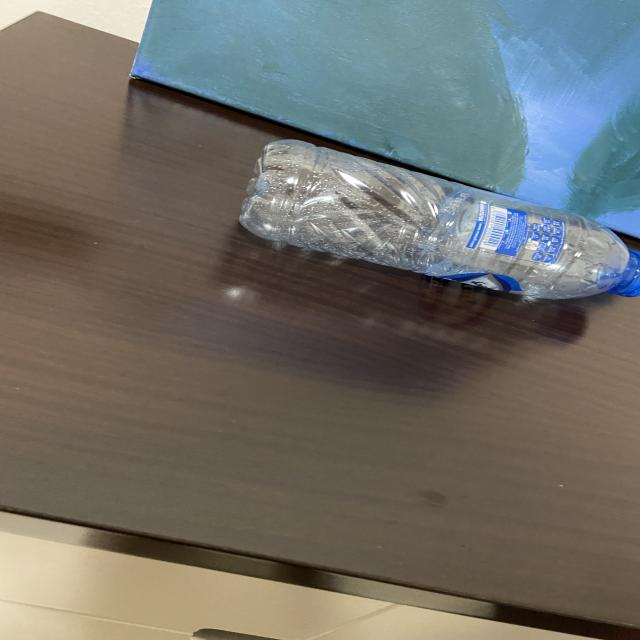bottle: (221, 132, 640, 316)
